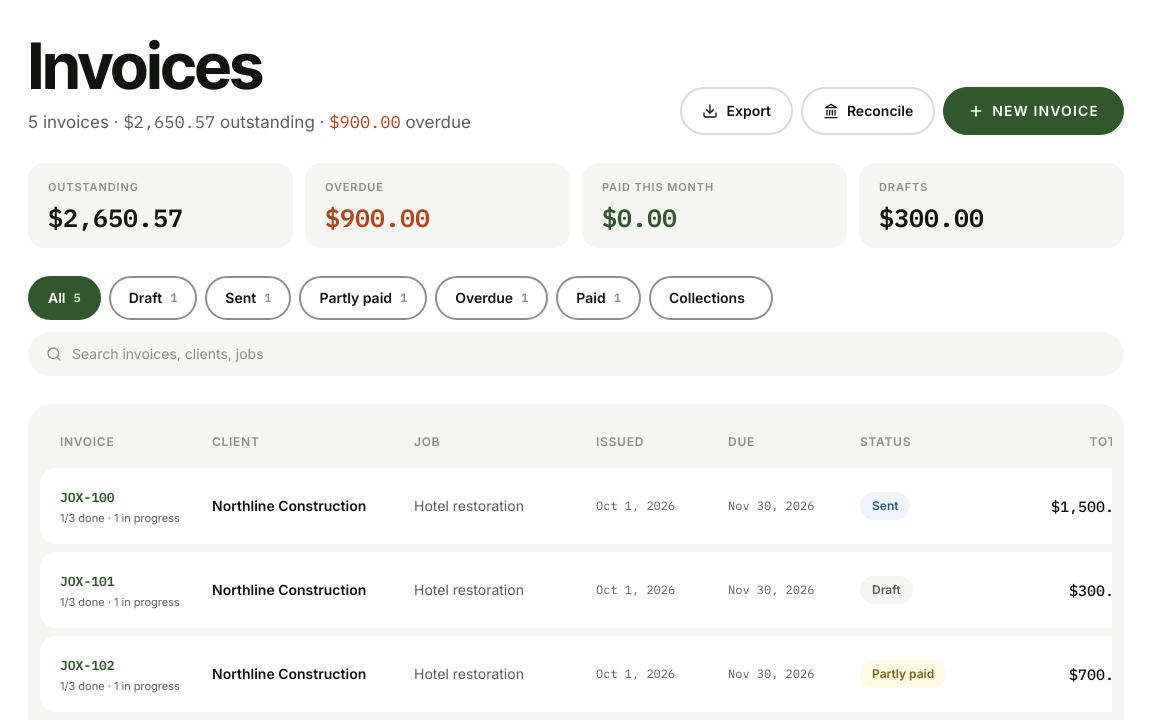
Test: Invoices list redesign › preserves cents, displays separate client/job and balance columns, and filters by status
Check: the link with test id "row-invoice-sent" shows "Northline Construction", box [40,468,1112,544]
Check: the link with test id "row-invoice-sent" shows "Hotel restoration", box [40,468,1112,544]
Click the button "Partly paid 1" at (363, 298), box [300,276,427,320]
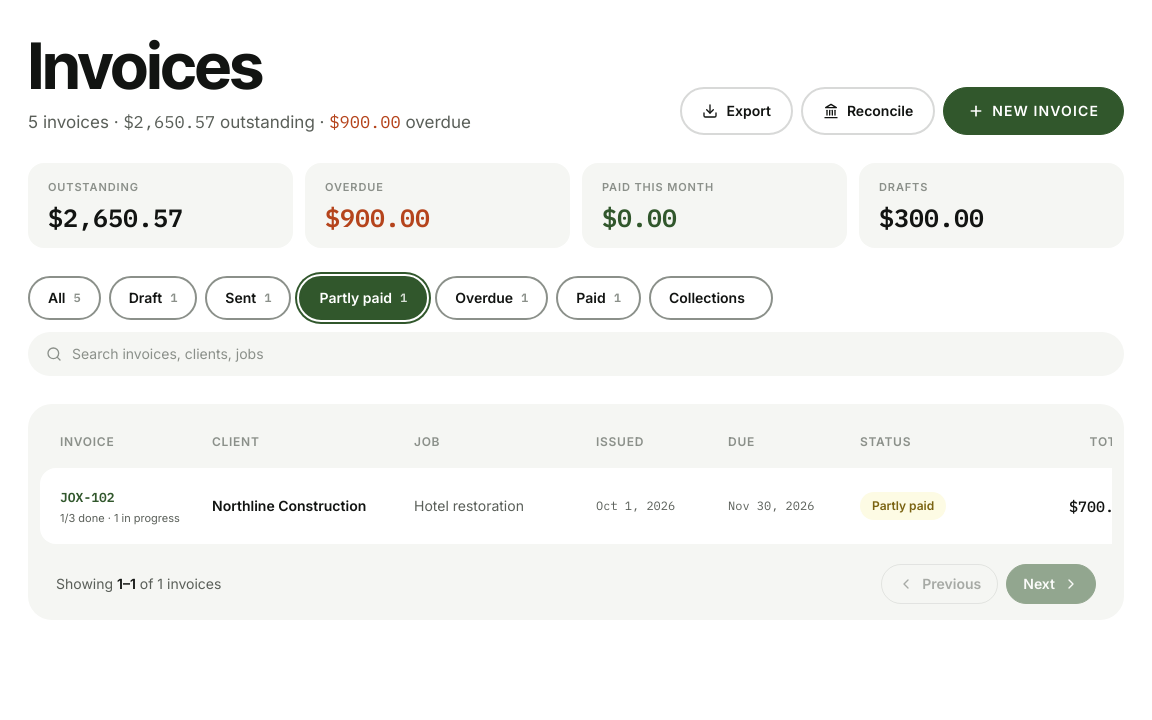
Check: the link with test id "row-invoice-partial" is shown, box [40,468,1112,544]
Check: the link with test id "row-invoice-sent" is gone
Click the button "Paid 1" at (599, 298), box [556,276,641,320]
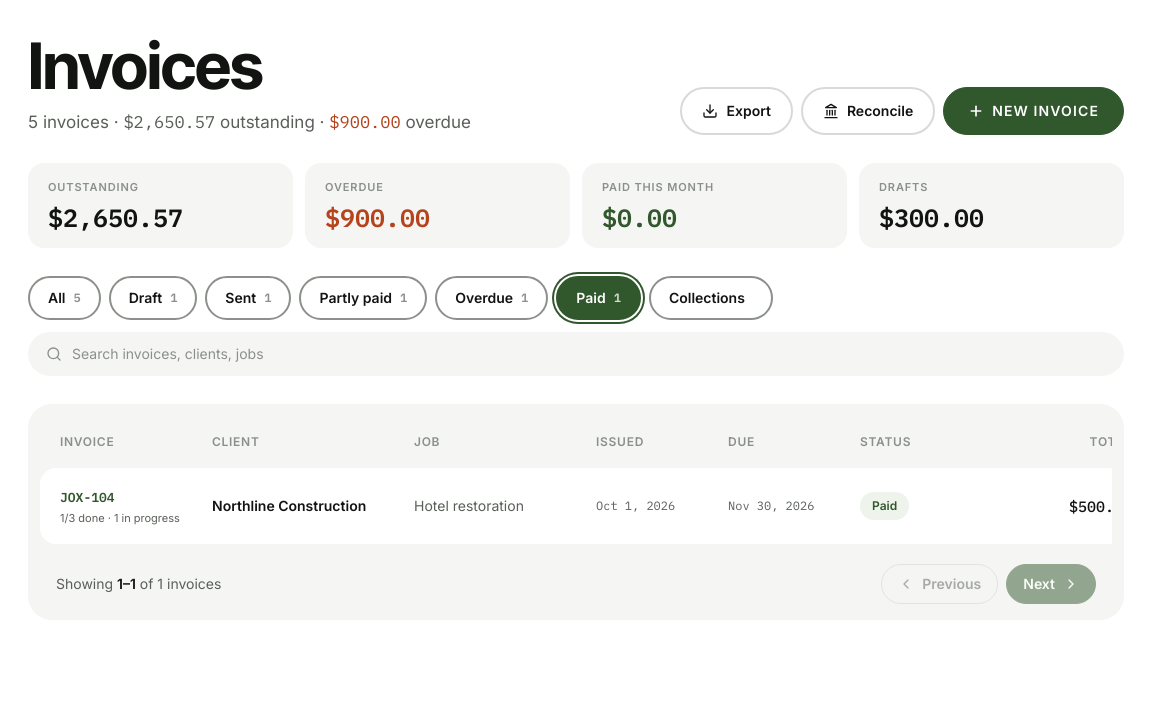
Check: the link with test id "row-invoice-paid" is shown, box [40,468,1112,544]
Check: the link with test id "row-invoice-partial" is gone
